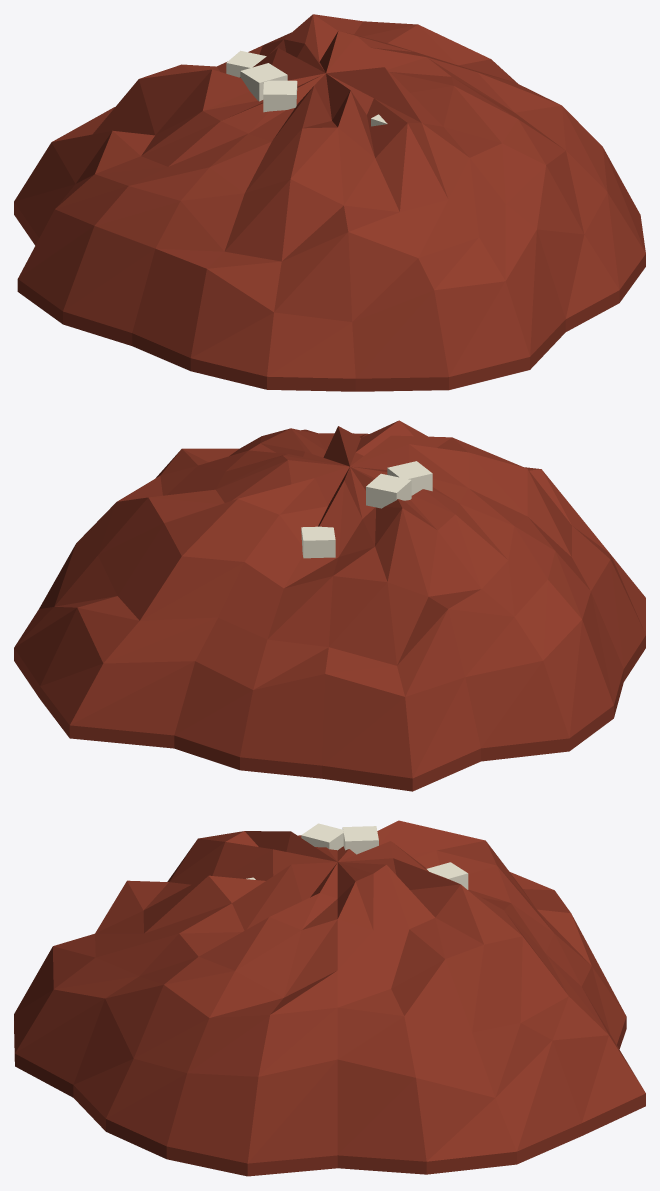
File: GroundMeat.obj
3 renders of one model, top to bottom at view 1: azimuth 30°, elevation 25°; view 2: azimuth 150°, elevation 25°; view 3: azimuth 270°, elevation 25°, orthographic.
Visible parts, largest first — view 1: GroundMeat; view 2: GroundMeat; view 3: GroundMeat.
Boxes of the visible parts, bbox=[...] form: GroundMeat: bbox=[14, 14, 645, 391]; GroundMeat: bbox=[14, 420, 645, 791]; GroundMeat: bbox=[14, 820, 645, 1176].
Bounding box in the file's own units: 0.1282 × 0.0466 × 0.1333.
